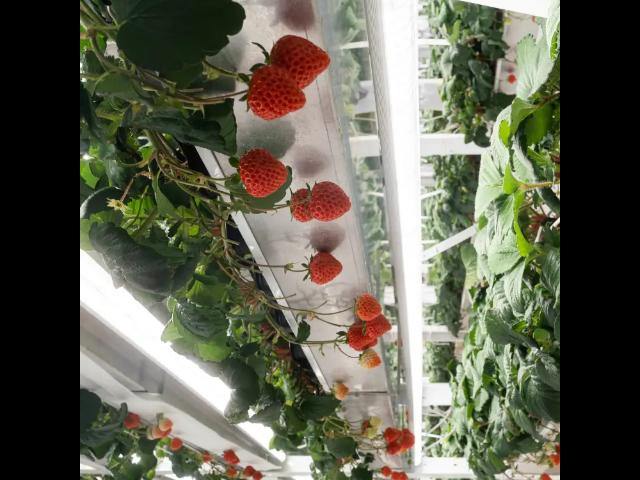Strawberries: (246, 60, 306, 122), (268, 34, 330, 86), (234, 148, 288, 198), (311, 179, 351, 219), (308, 249, 344, 285), (288, 190, 314, 222), (353, 295, 382, 321), (346, 324, 374, 348), (366, 318, 390, 336), (360, 348, 380, 368), (382, 426, 402, 442), (400, 430, 416, 448), (332, 382, 350, 398), (384, 443, 404, 453), (223, 448, 237, 460), (169, 437, 183, 449), (380, 466, 392, 476)
